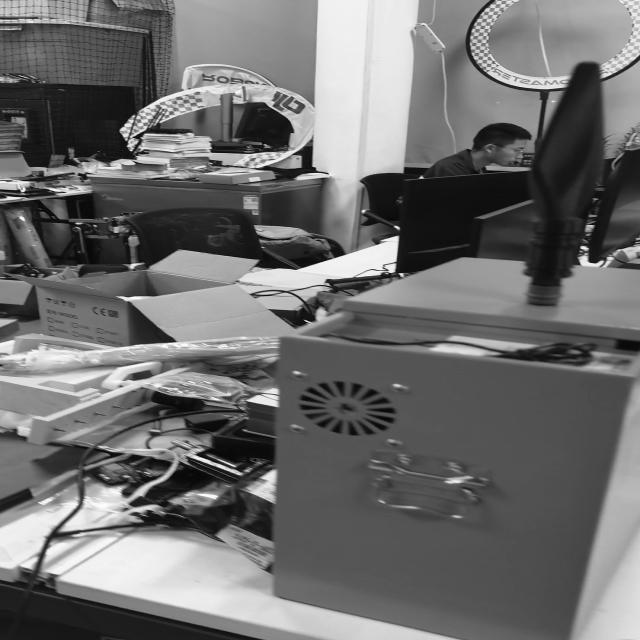base: (524, 282, 564, 306)
